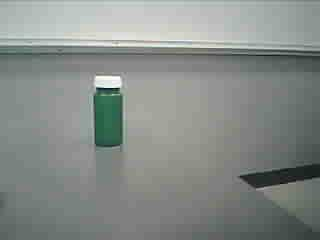Bottle C: (83, 70, 134, 156)
